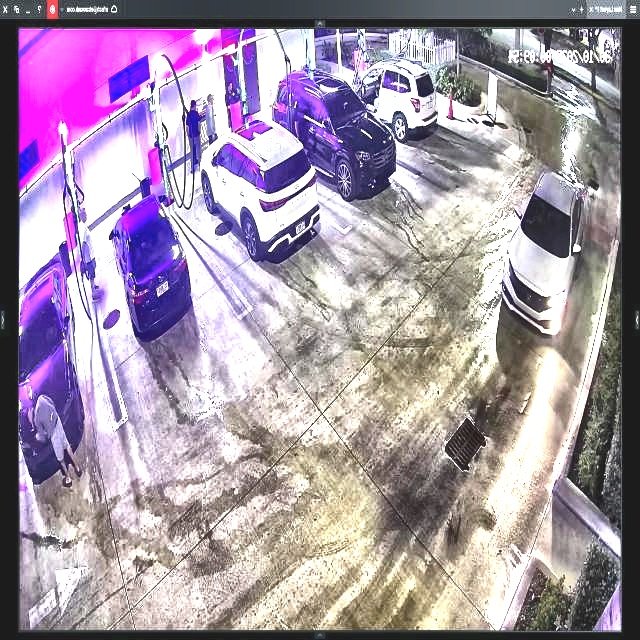Car: (202, 115, 316, 258), (271, 70, 394, 191), (110, 190, 195, 337)
